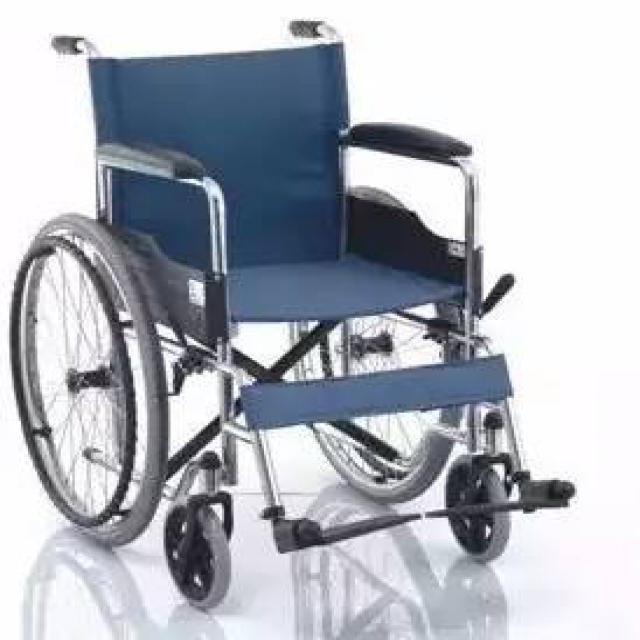wheelchairs: (10, 23, 570, 609)
